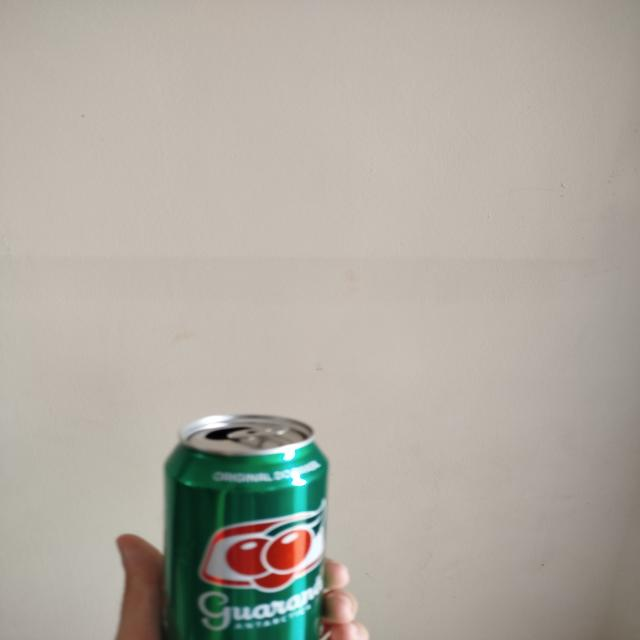Guarana: (162, 413, 330, 640)
